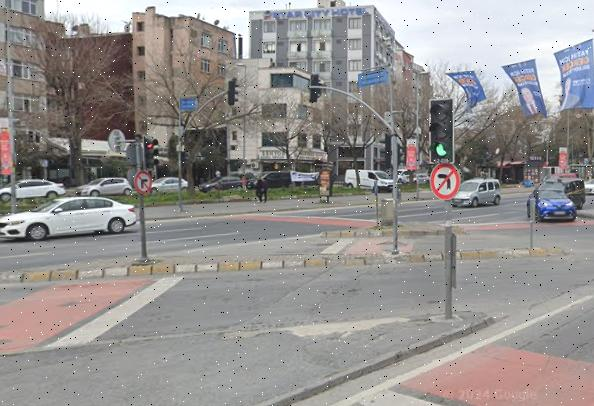greenlight: (429, 100, 453, 155)
leftturnsareforbidden: (429, 163, 463, 200)
rightturnsareforbidden: (135, 171, 153, 193)
